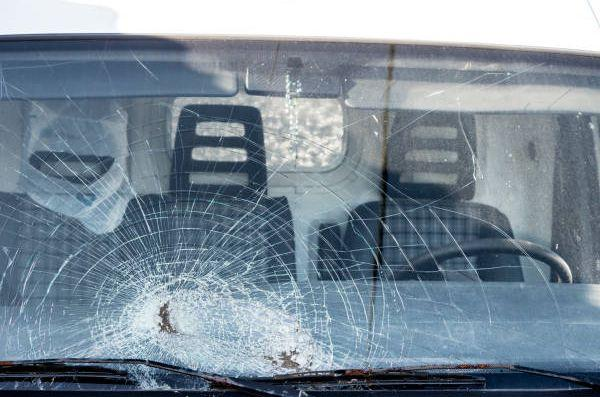glass: (0, 25, 600, 397)
